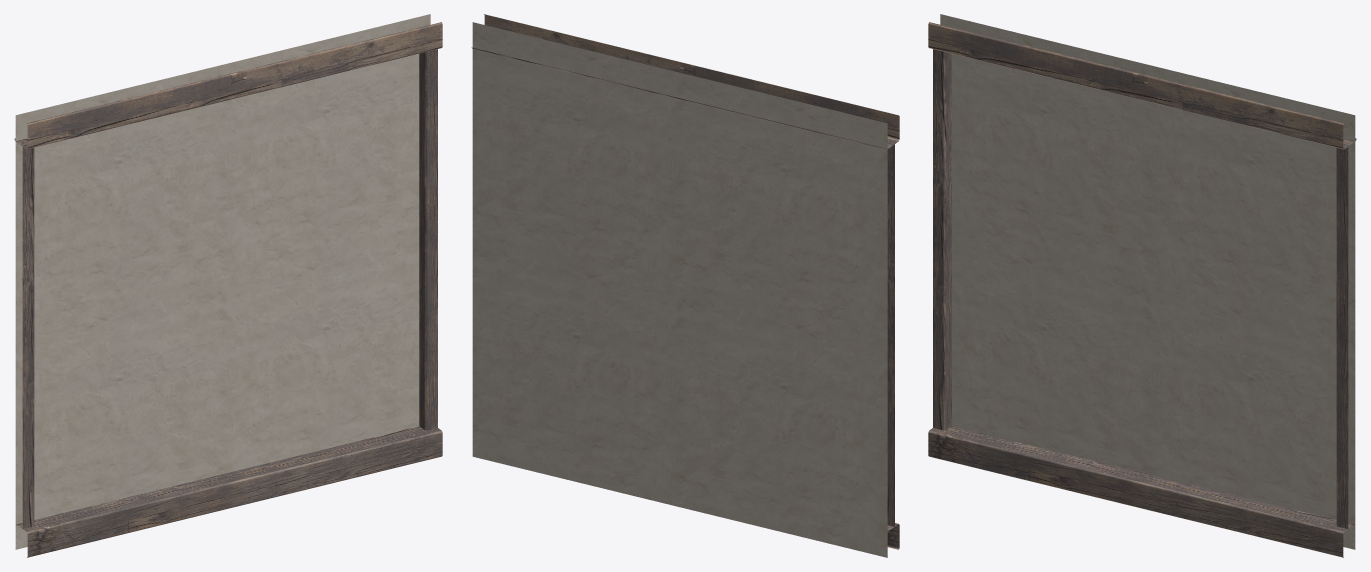
The model's file is IntWall02a.FBX.
3 views of the same model, side by side, from view 1: azimuth 30°, elevation 25°; view 2: azimuth 150°, elevation 25°; view 3: azimuth 330°, elevation 25° (orthographic).
Parts seen in each view (by area): view 1: IntWall02a; view 2: IntWall02a; view 3: IntWall02a.
Part boxes in pixels (x1,y1,x2,y2): IntWall02a: [14, 14, 442, 557]; IntWall02a: [471, 14, 899, 557]; IntWall02a: [928, 14, 1356, 557].
Size of the model in its own units: 98.43 by 5.48 by 98.43.
